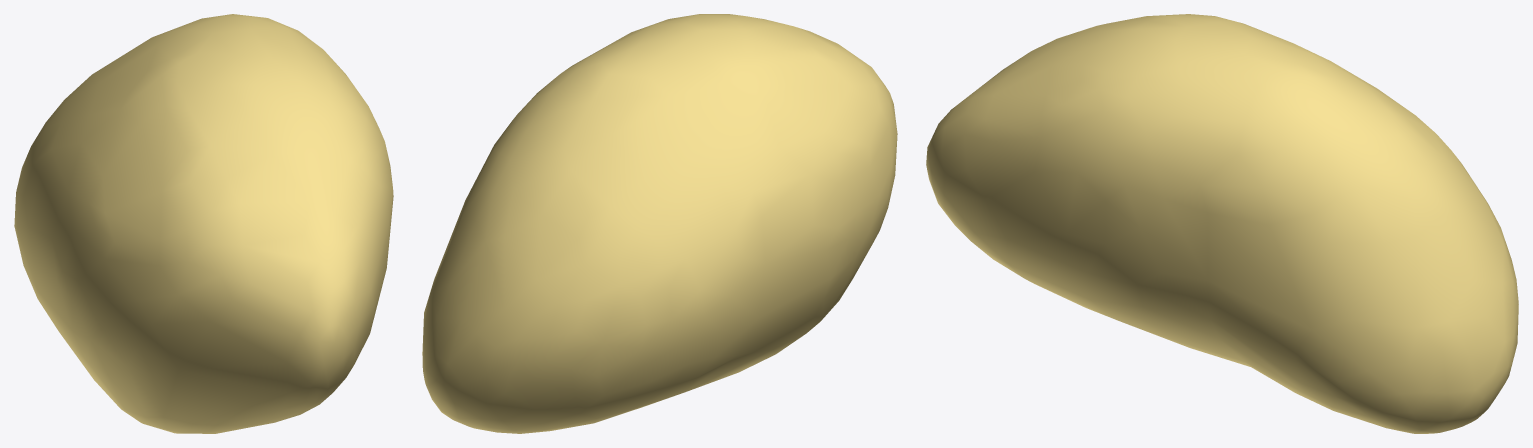
3 renders of one model, left to right at view 1: azimuth 30°, elevation 25°; view 2: azimuth 150°, elevation 25°; view 3: azimuth 270°, elevation 25°, orthographic. The views are drawn at different scales.
Visible parts, largest first — view 1: ZA_0408b7fa277ffb4e; view 2: ZA_0408b7fa277ffb4e; view 3: ZA_0408b7fa277ffb4e.
Boxes of the visible parts, x1=… form: ZA_0408b7fa277ffb4e: x1=14, y1=14, x2=393, y2=433; ZA_0408b7fa277ffb4e: x1=422, y1=14, x2=897, y2=433; ZA_0408b7fa277ffb4e: x1=926, y1=14, x2=1518, y2=433.
Bounding box in the file's own units: 0.0227 × 0.0229 × 0.0354.
